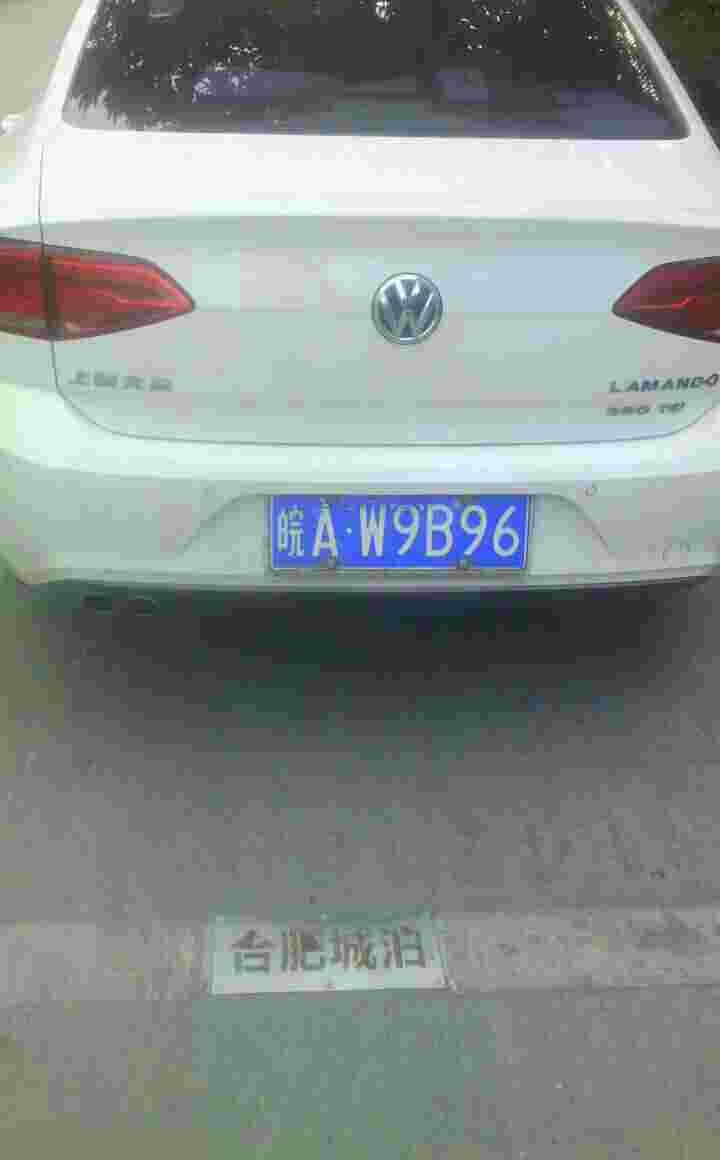license_plate: (283, 490, 534, 571)
